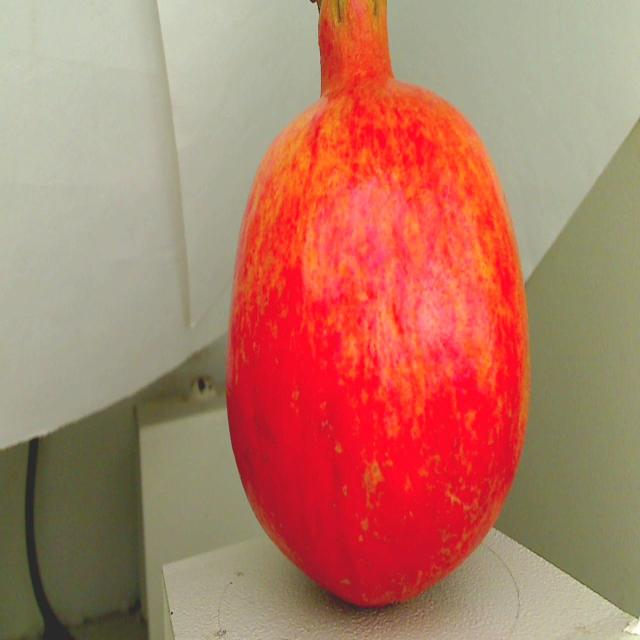pomegranate: (213, 0, 539, 611)
